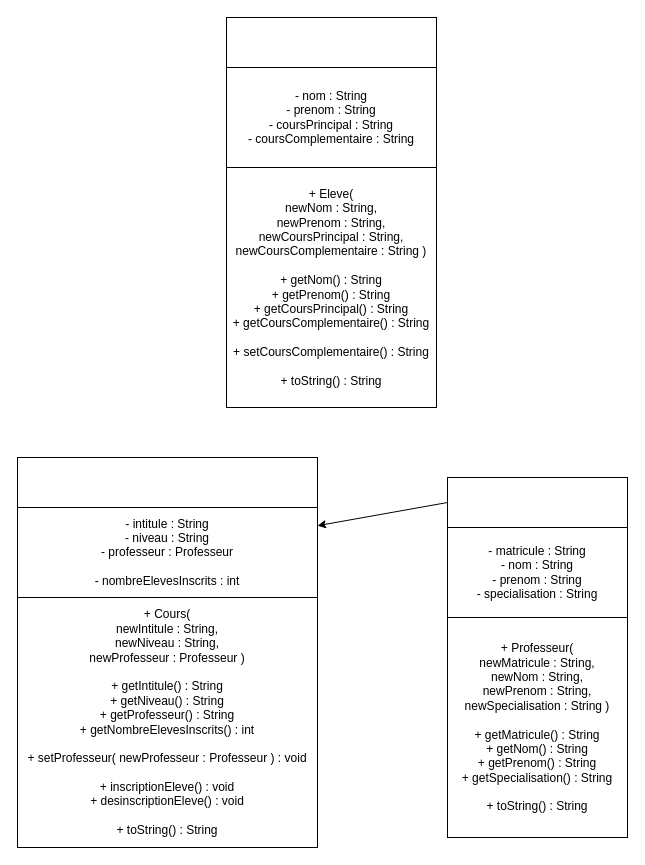
Some shapes in this 645 by 865 pixel diagram are drawn without their labels. Each missing label, with the centre of its shape:
Cours: the point at 167,482
Eleve: the point at 331,42
Professeur: the point at 537,502
